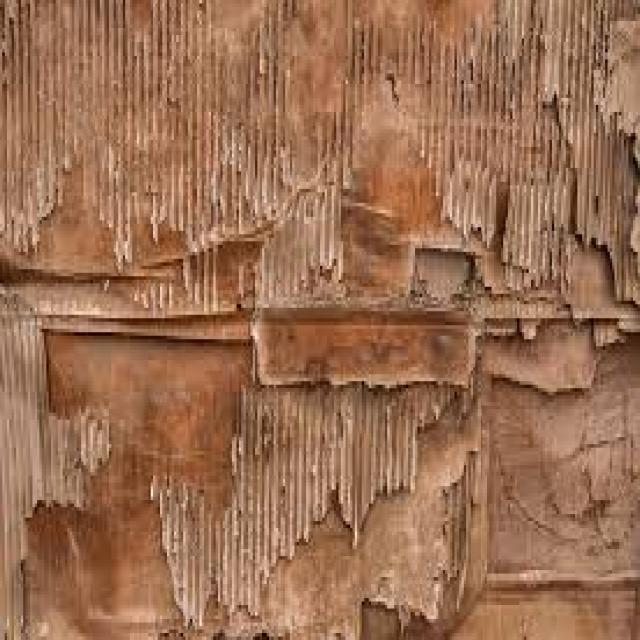cardboard: (0, 0, 638, 637), (0, 305, 638, 637), (0, 0, 638, 308)
